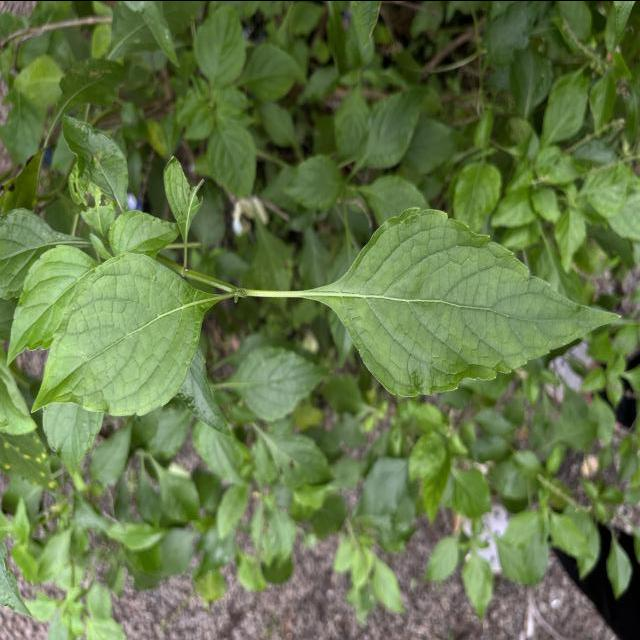Ocimum gratissimum: (264, 202, 624, 401), (26, 248, 236, 419), (3, 239, 102, 369)
